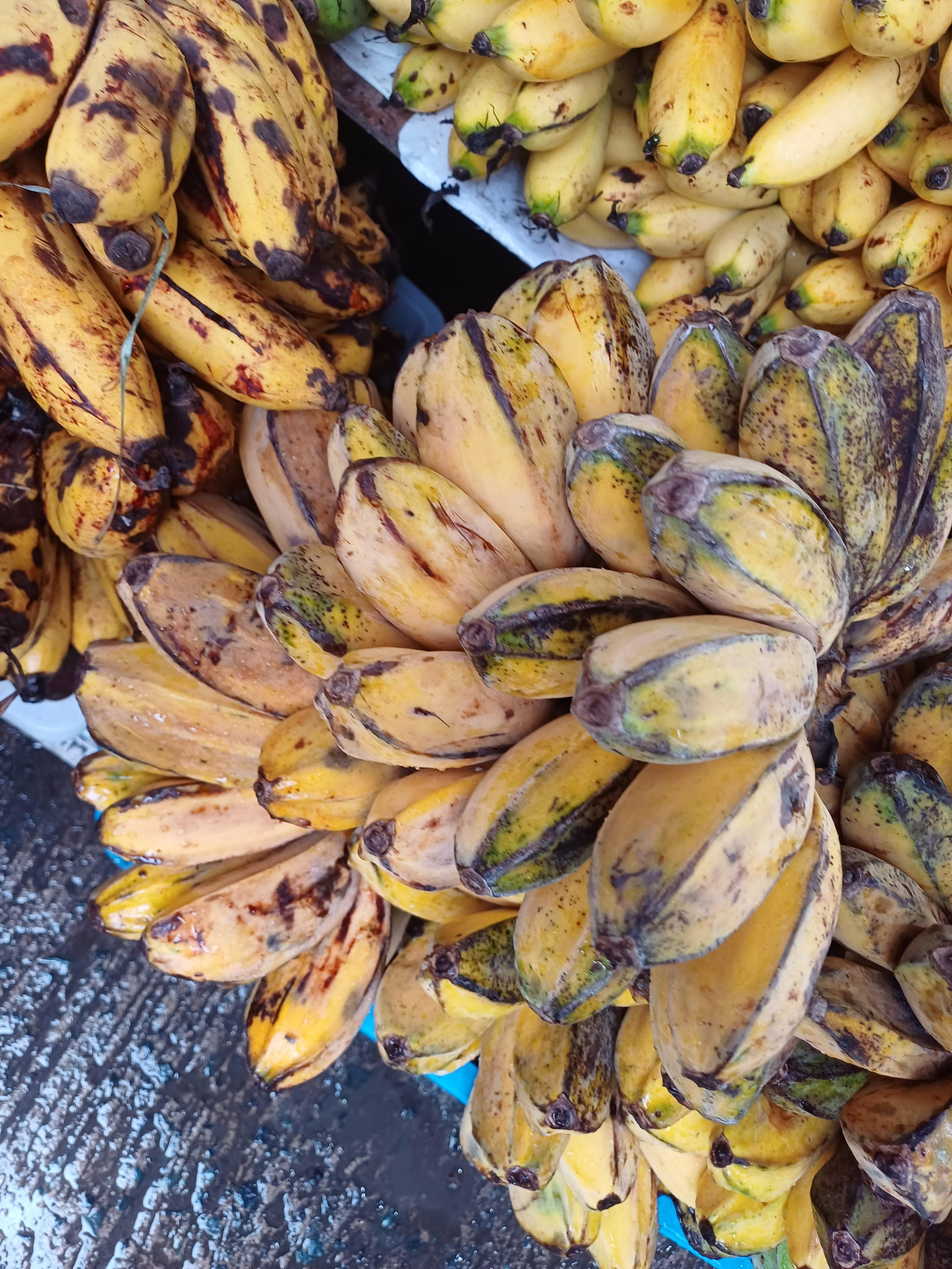ripe: (455, 288, 952, 1124), (254, 254, 656, 922), (73, 406, 391, 1088), (760, 654, 952, 1269), (374, 909, 655, 1269), (615, 1003, 847, 1269)
